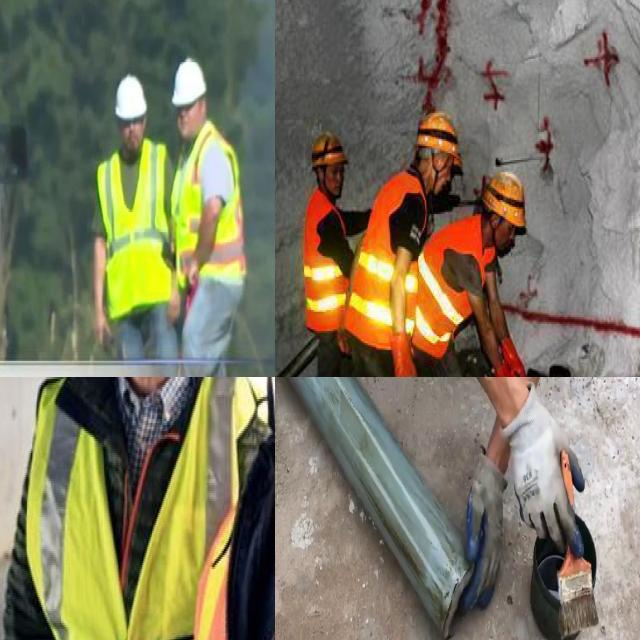face_nomask: (420, 155, 453, 200), (490, 216, 519, 259), (119, 114, 147, 157), (176, 101, 197, 138), (324, 167, 347, 200)
hand_glove: (506, 388, 586, 558), (463, 452, 504, 614), (388, 329, 420, 377), (499, 336, 534, 377), (493, 365, 523, 377)
hand_noglove: (94, 308, 112, 348), (184, 254, 200, 292)
head_helmet: (416, 97, 466, 167), (484, 163, 530, 223), (114, 72, 150, 120), (171, 55, 211, 98), (308, 127, 355, 163)
person: (6, 377, 249, 640), (354, 99, 475, 377), (165, 45, 266, 377), (88, 68, 182, 377), (420, 166, 550, 377), (197, 377, 275, 640), (300, 116, 352, 377)
vest: (38, 377, 237, 640), (198, 439, 275, 640), (174, 134, 262, 297), (94, 141, 176, 305), (410, 221, 505, 355), (358, 169, 428, 338), (296, 186, 355, 331)
